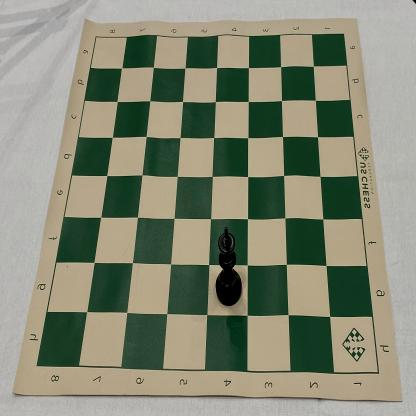black-king: (215, 227, 242, 306)
